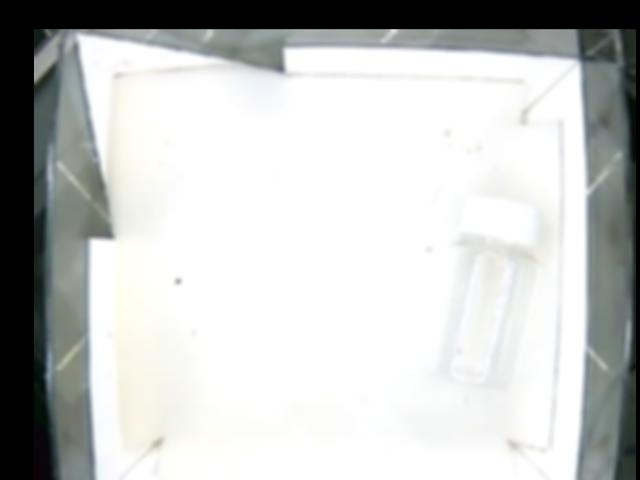Bottle: (418, 194, 544, 386)
